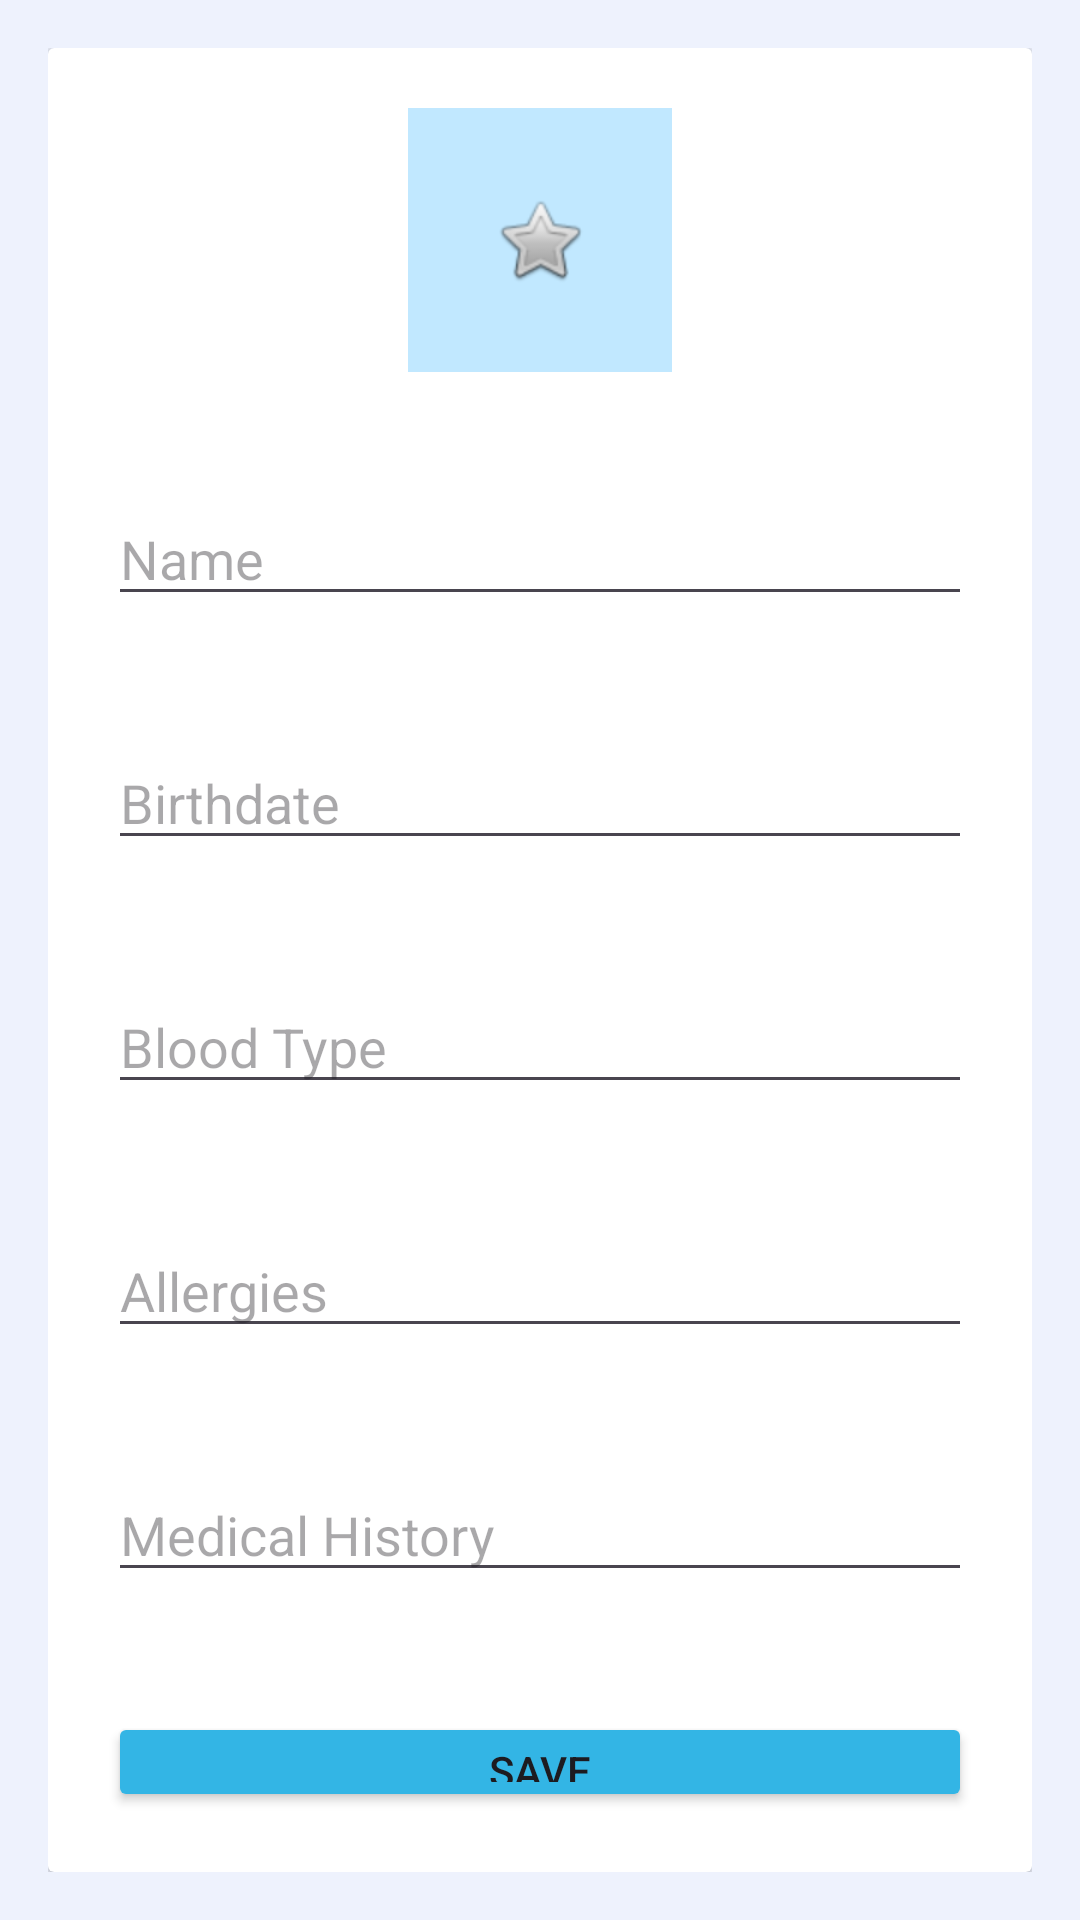

Icons on this 1080 x 1920 Android screen, each with its box as detection(x1, y1, x2, y2):
star: detection(408, 108, 672, 372)
